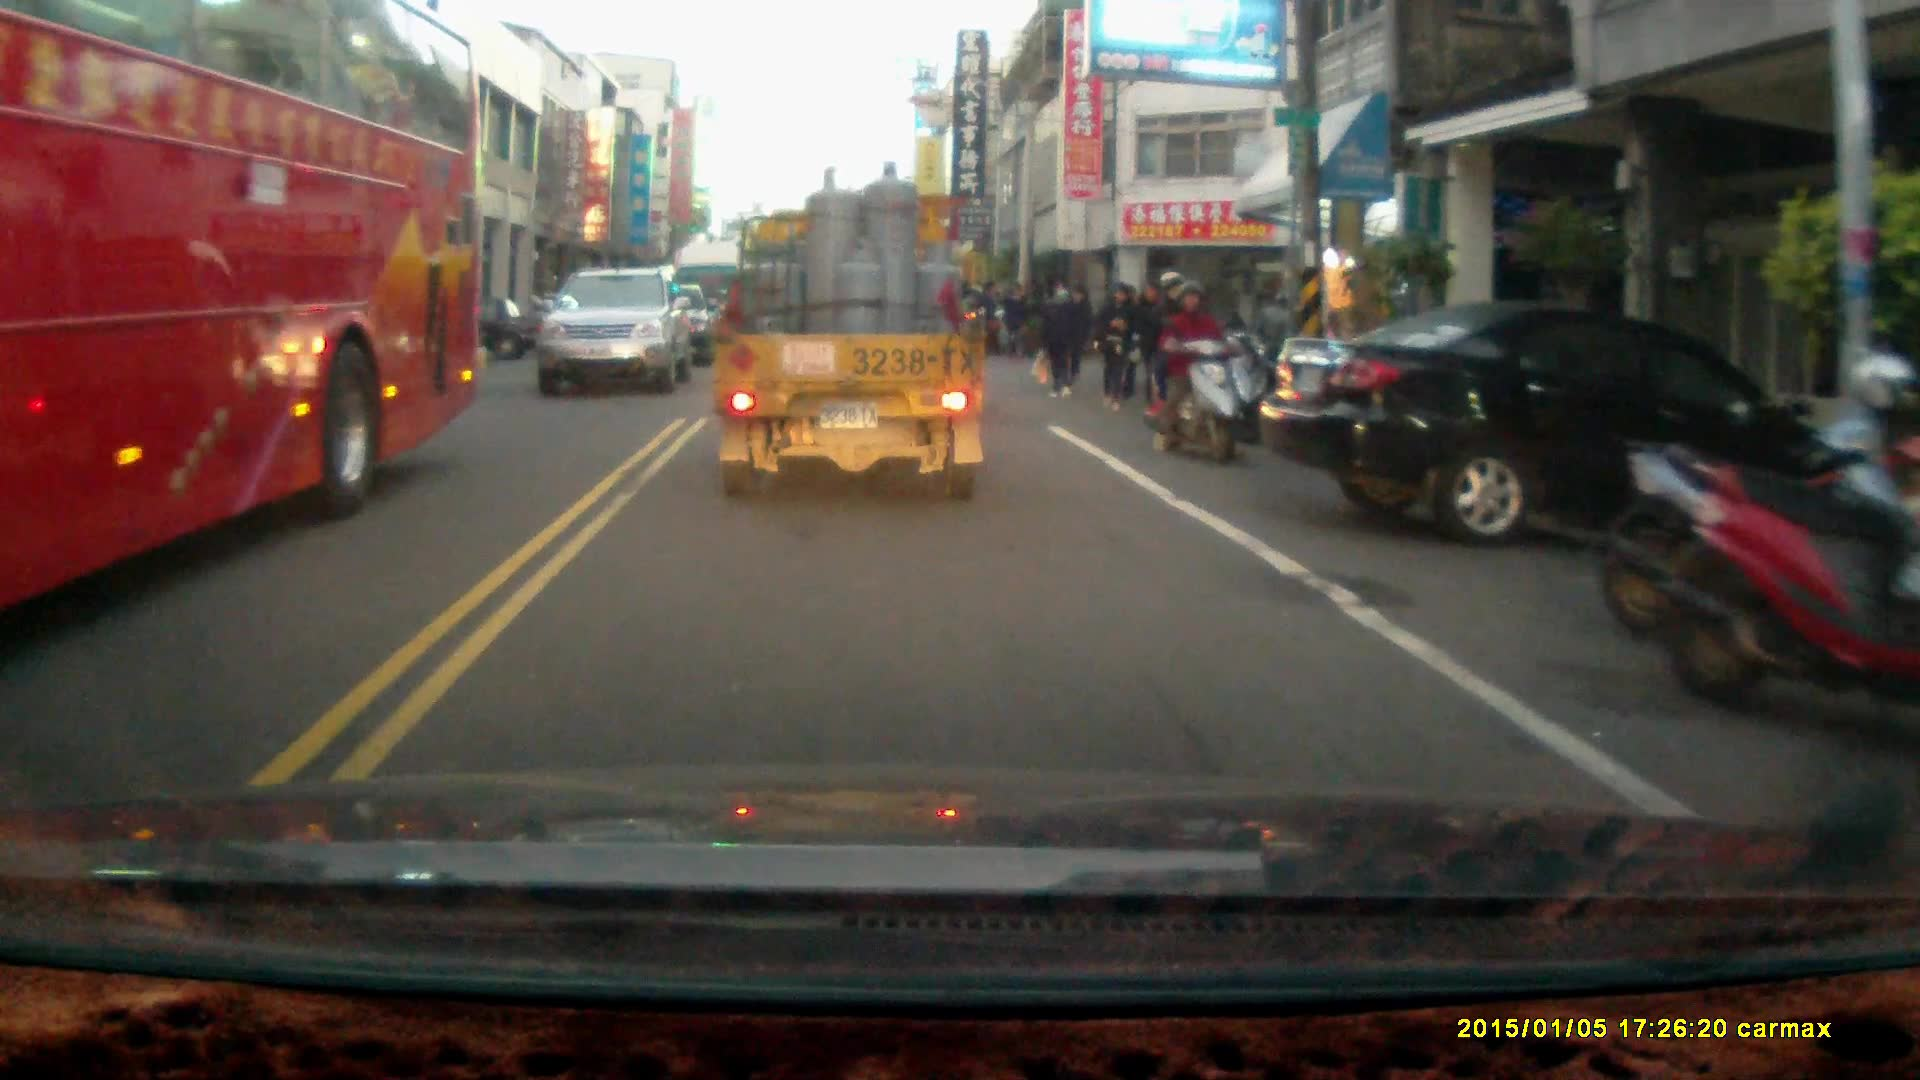pedestrian: (1134, 278, 1181, 412), (1099, 279, 1138, 412), (1036, 277, 1079, 399), (1001, 276, 1029, 357)
rider: (1143, 267, 1236, 458)
vehicle: (1, 7, 490, 619), (1264, 302, 1838, 545), (714, 160, 993, 502), (538, 267, 688, 401)
